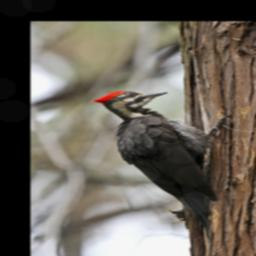Woodpecker: (91, 90, 232, 239)
